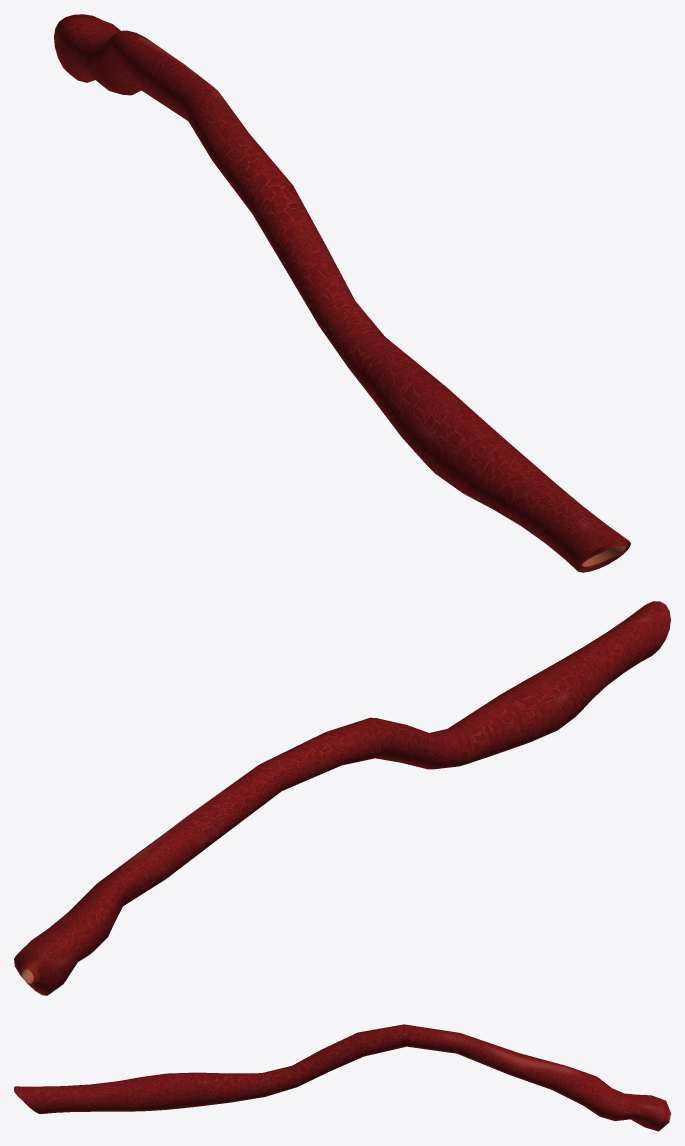
The model's file is oesophage.obj.
3 renders of one model, top to bottom at view 1: azimuth 30°, elevation 25°; view 2: azimuth 150°, elevation 25°; view 3: azimuth 270°, elevation 25°, orthographic. The views are drawn at different scales.
Visible parts, largest first — view 1: Esophagus; view 2: Esophagus; view 3: Esophagus.
Part boxes in pixels (bbox=[...]): Esophagus: bbox=[54, 14, 630, 572]; Esophagus: bbox=[14, 601, 670, 995]; Esophagus: bbox=[14, 1024, 670, 1131].
Bounding box in the file's own units: 1.55 × 1.48 × 9.93.
